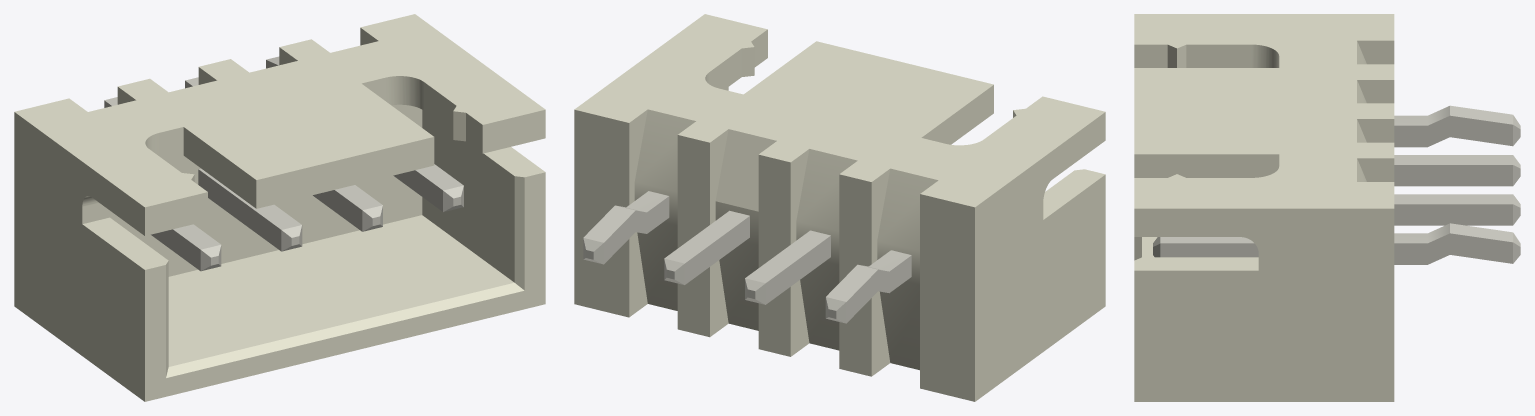
File: jst-xh-4.glb
3 views of the same model, side by side, from view 1: azimuth 30°, elevation 25°; view 2: azimuth 150°, elevation 25°; view 3: azimuth 270°, elevation 25° (orthographic).
Visible parts, largest first — view 1: PLASTIC-WHITE-01, PIN-01; view 2: PLASTIC-WHITE-01, PIN-01; view 3: PLASTIC-WHITE-01, PIN-01.
Boxes of the visible parts, x1,y1,x2,y2 form: PLASTIC-WHITE-01: (14,14,545,401); PIN-01: (104,56,463,271); PLASTIC-WHITE-01: (574,14,1105,401); PIN-01: (583,191,911,323); PLASTIC-WHITE-01: (1134,14,1394,401); PIN-01: (1153,105,1520,264).
Bounding box in the file's own units: 12.4 × 5.75 × 10.4.
